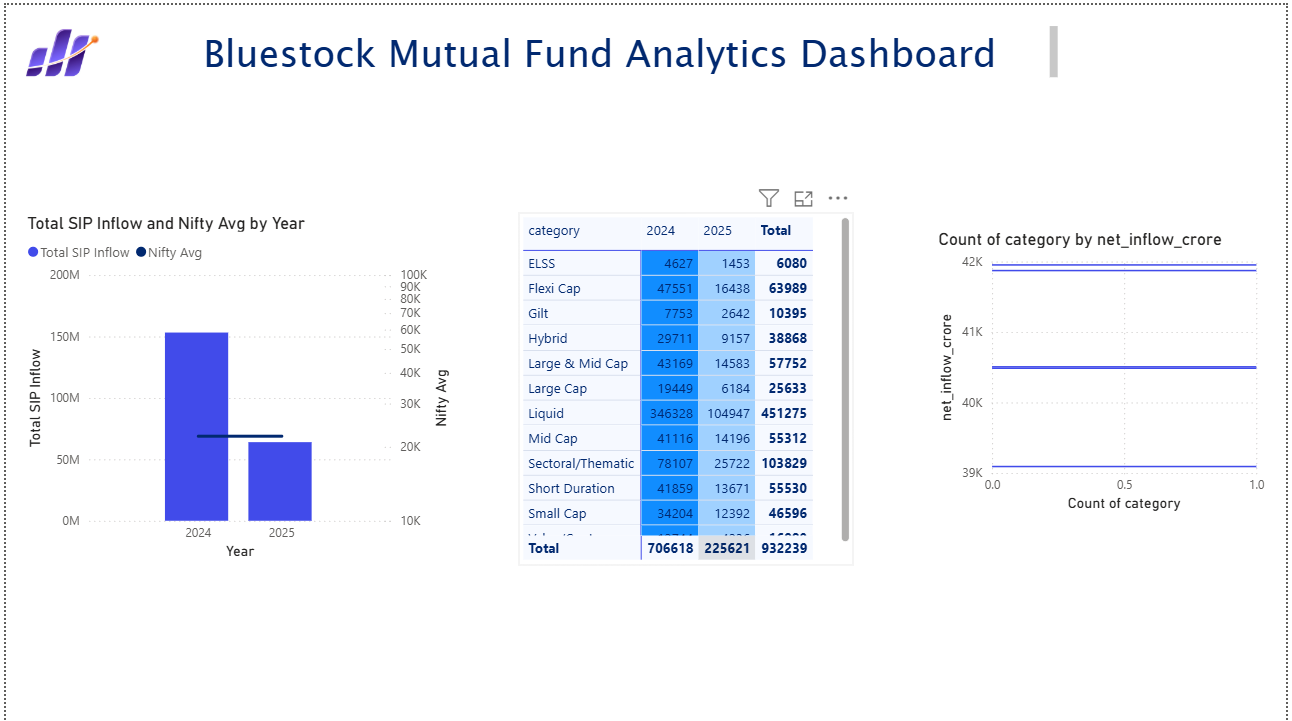

What the dashboard file says about the page in this screenshot:
{"tool":"powerbi","page":{"name":"SIP & Market Trends","canvas":[1280,720],"ordinal":3},"visuals":[{"type":"lineClusteredColumnComboChart","fields":{"Category":["08_investor_transactions.transaction_date.Variation.Date Hierarchy.Year"],"Y":["08_investor_transactions.Total SIP Inflow"],"Y2":["10_benchmark_indices.Nifty Avg"]},"box":[16,208,432,352],"z":0},{"type":"pivotTable","fields":{"Rows":["05_category_inflows.category"],"Values":["Sum(05_category_inflows.net_inflow_crore)"],"Columns":["05_category_inflows.month.Variation.Date Hierarchy.Year"]},"box":[512,208,336,352],"z":1000},{"type":"barChart","fields":{"Y":["CountNonNull(05_category_inflows.category)"],"Category":["05_category_inflows.net_inflow_crore"]},"box":[928,224,336,288],"z":2000},{"type":"image","box":[0,0,112,96],"z":2001},{"type":"textbox","box":[192,16,864,64],"z":2002}]}

Visuals, with their boxes in screenshot pixels (x1, y1, x2, y2), scaled from the page's 1280x720 canvas onto the 1292x721 screenshot:
lineClusteredColumnComboChart - 08_investor_transactions.transaction_date.Variation.Date Hierarchy.Year x 08_investor_transactions.Total SIP Inflow: [x1=16, y1=208, x2=452, y2=561]
pivotTable - 05_category_inflows.category x Sum(05_category_inflows.net_inflow_crore): [x1=517, y1=208, x2=856, y2=561]
barChart - CountNonNull(05_category_inflows.category) x 05_category_inflows.net_inflow_crore: [x1=937, y1=224, x2=1276, y2=513]
image: [x1=0, y1=0, x2=113, y2=96]
textbox: [x1=194, y1=16, x2=1066, y2=80]
